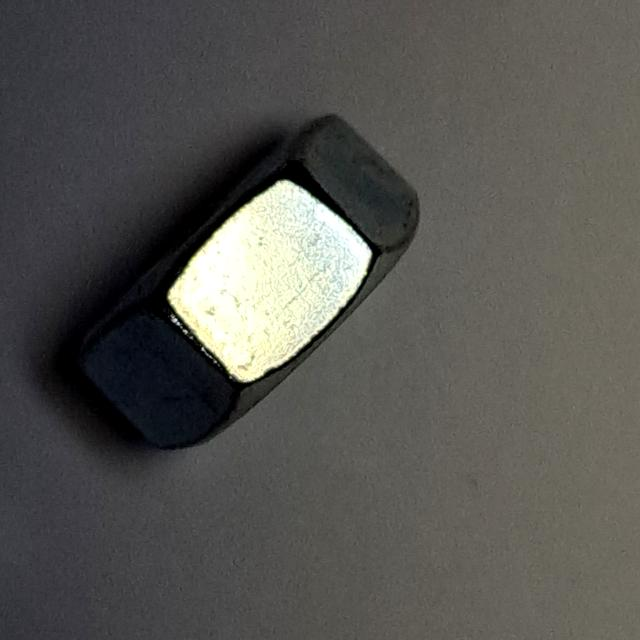Side_Excellent: (53, 102, 447, 464)
